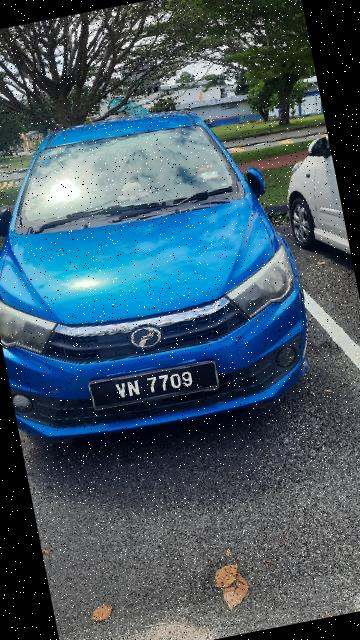License_Plate: (83, 354, 228, 416)
car: (1, 80, 348, 470)
